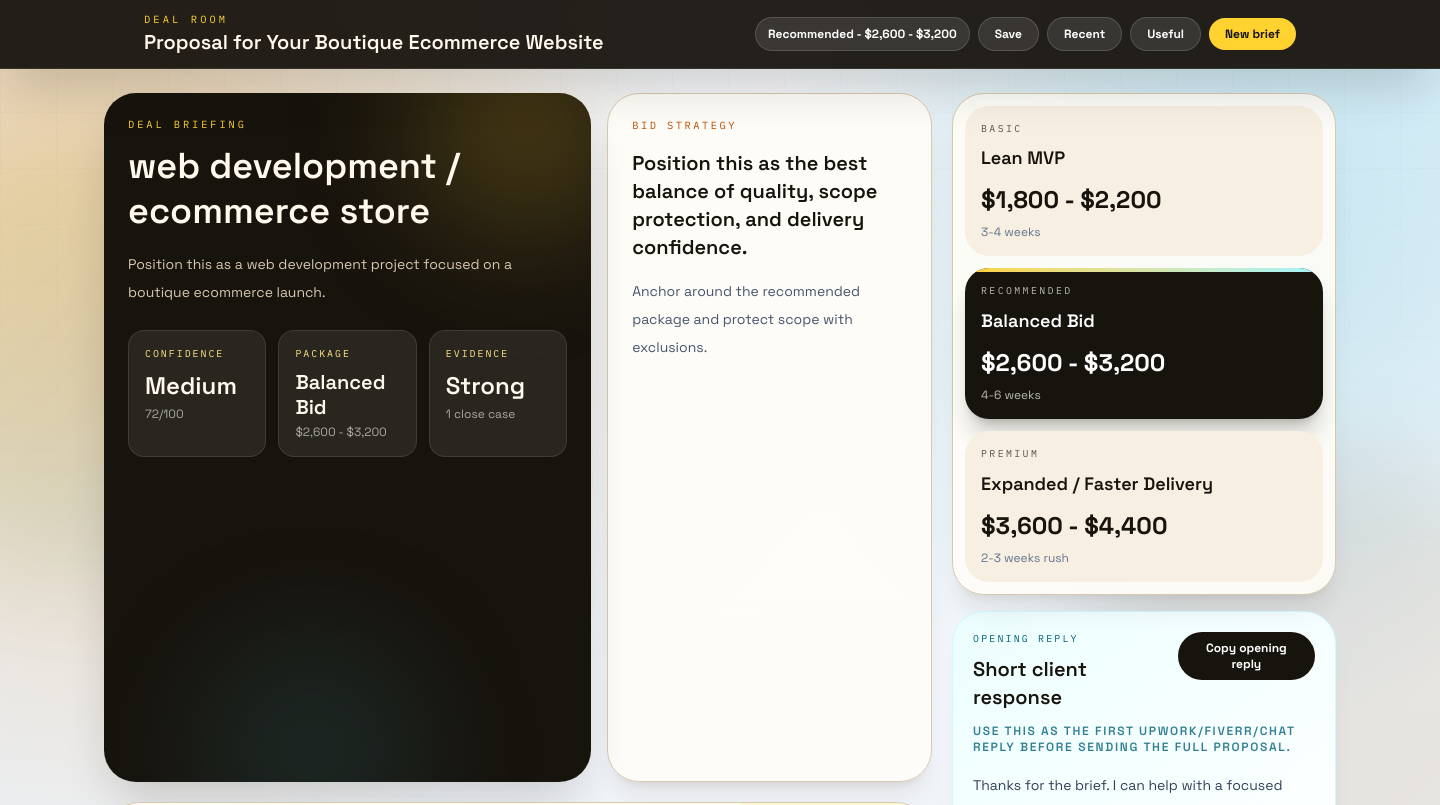
Scenario: Deal Desk experience › package switching changes price, scope, and proposal framing
The width and height of the screenshot is (1440, 805).
Expected: the text "Recommended - $2,600 - $3,200" is shown, [755, 17, 970, 51]
Expected: the text "Balanced Bid" next to "strong" is shown, [295, 369, 385, 420]
What coordinates should you click on to do the following:
click the button "Premium"
I would click on:
 (1010, 454)
Its box is [965, 431, 1323, 582].
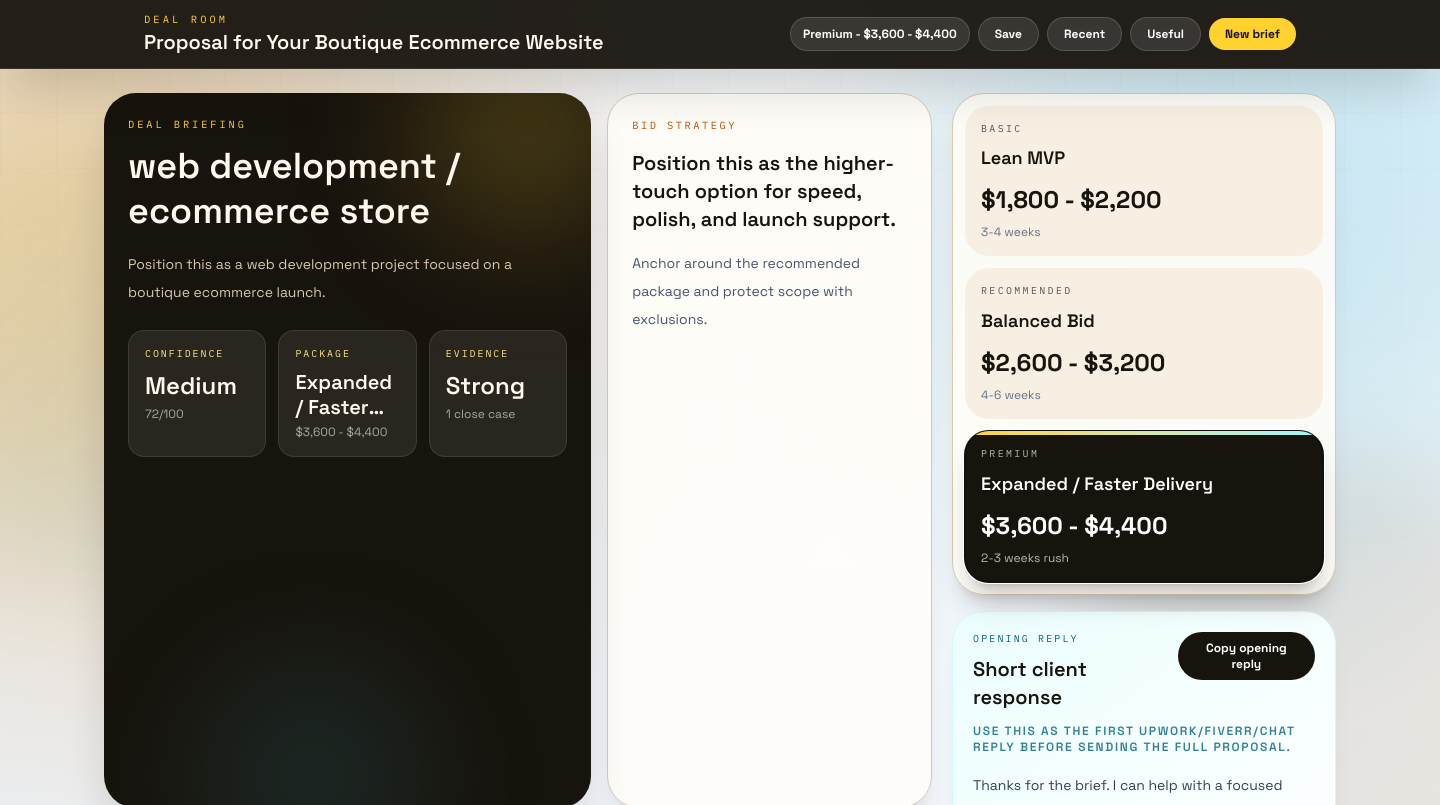
Now the text "Premium - $3,600 - $4,400" is shown, box [790, 17, 970, 51]
Now the text "Expanded / Faster Delivery" next to "1 close case" is shown, box [295, 369, 392, 445]
Now the text "higher-touch option for speed, polish, and launch support" is shown, box [632, 150, 896, 232]
